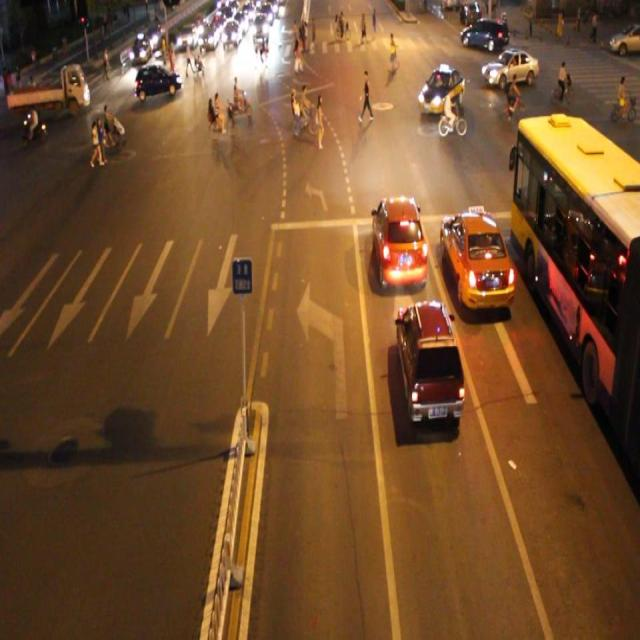bus: (0, 64, 90, 113)
car: (395, 297, 466, 422), (440, 204, 518, 308), (373, 192, 429, 288), (481, 44, 537, 89), (416, 66, 464, 117), (134, 63, 184, 99)
van: (511, 116, 640, 468)
